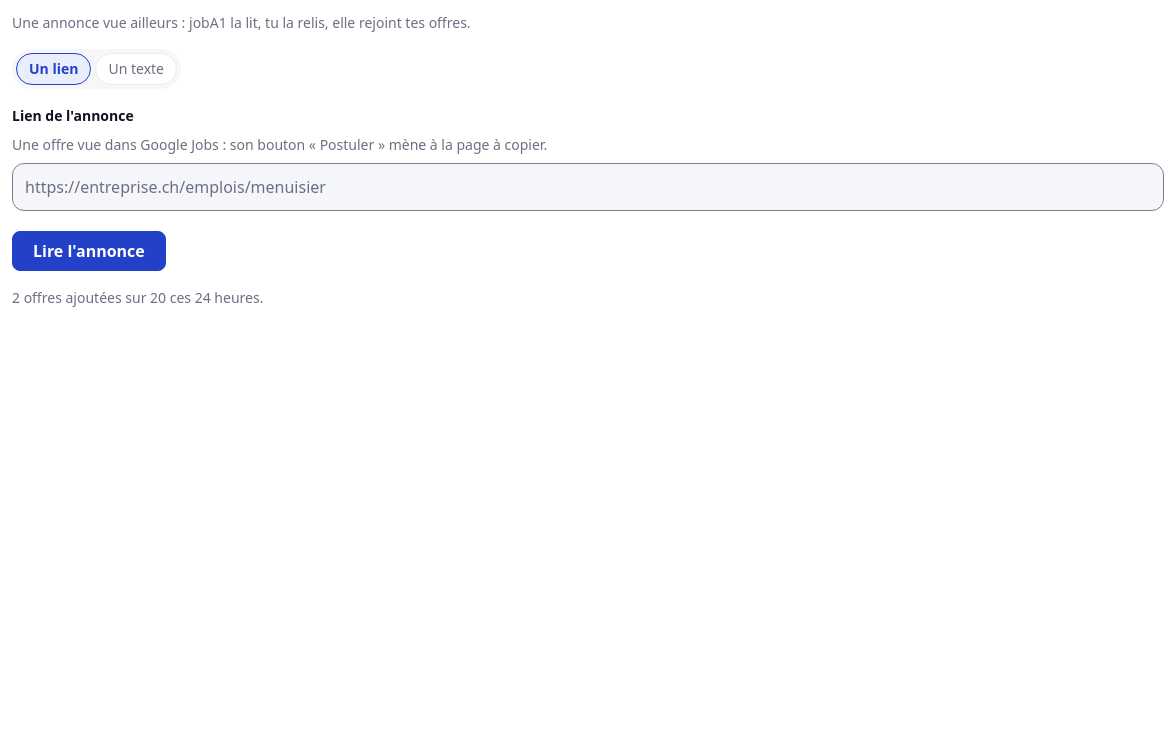
Test: Ajouter une offre (docs/111) › une page protégée : passe au texte collé, ou la fiche à la main
Type "https://ch.indeed.com/viewjob?jk=1" into the field with test id "manual-url" at (588, 187), box [12,163,1164,211]
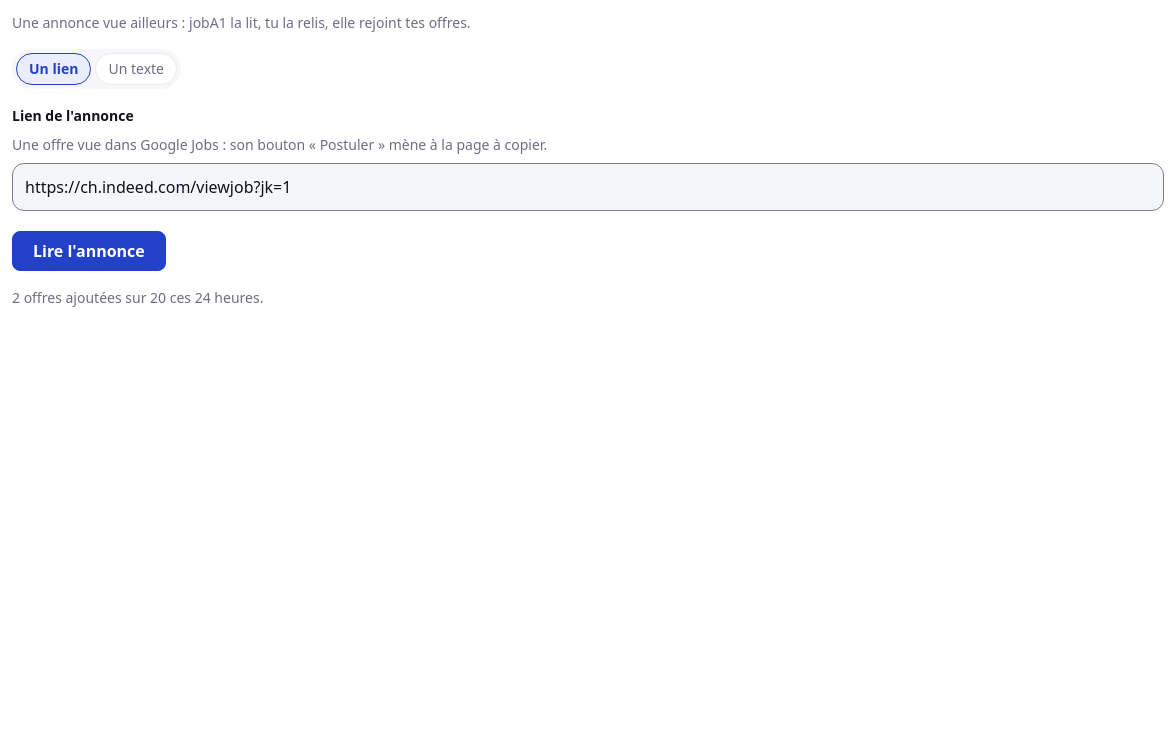
Submit the form with test id "manual-form", box [12,12,1164,308]
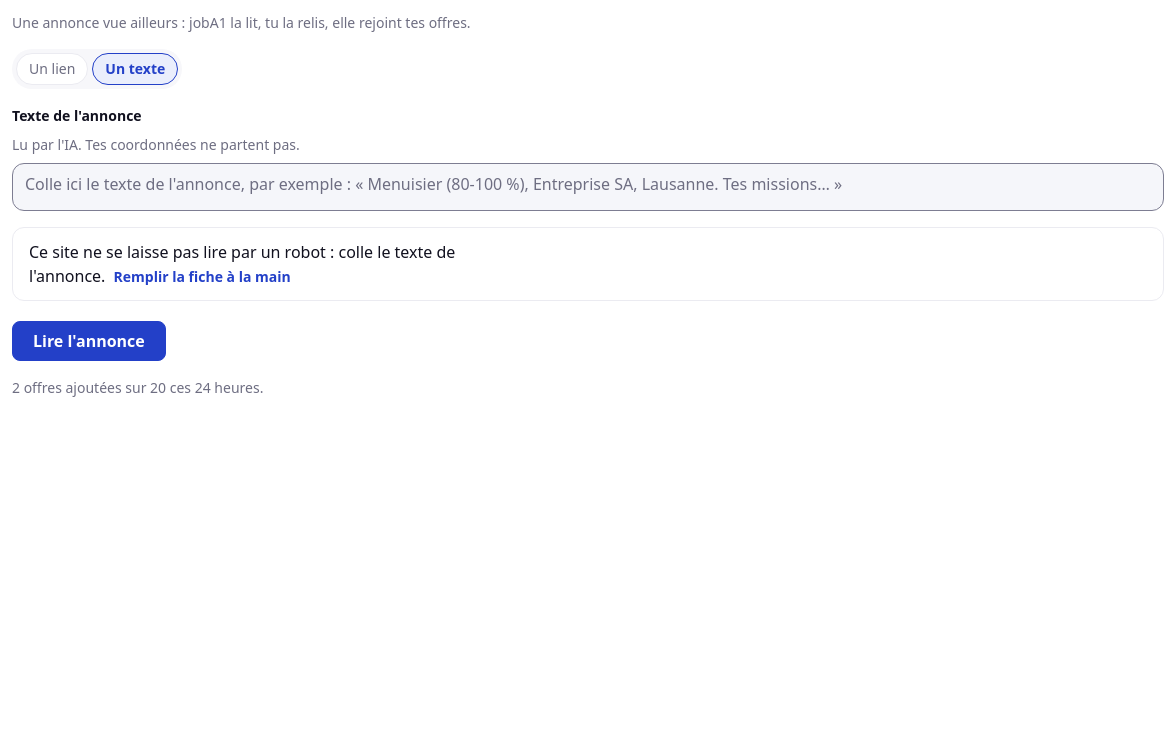
Expected: the message with test id "manual-problem" shows "colle le texte", [29,241,455,287]
Expected: the text box with test id "manual-text" is shown, [12,163,1164,211]
Click the button with test id "manual-by-hand" at (202, 276), box [114,266,291,287]
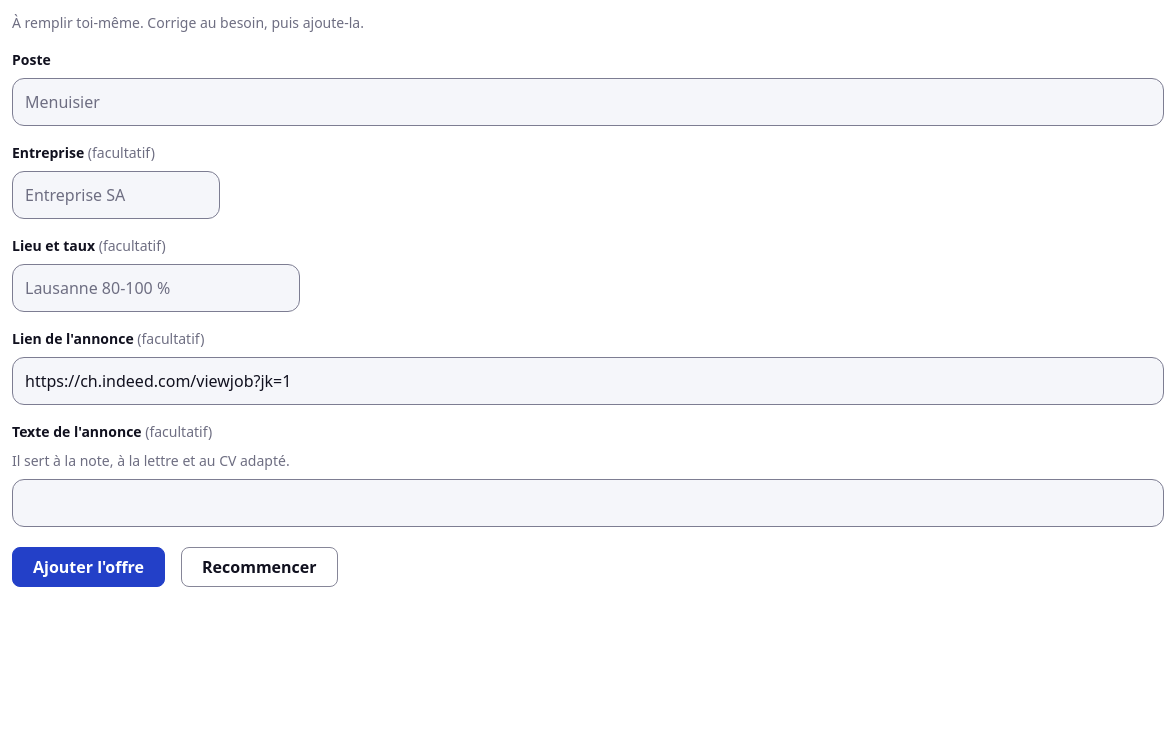
Expected: the field with test id "manual-draft-url" holds "https://ch.indeed.com/viewjob?jk=1", [12,357,1164,405]
